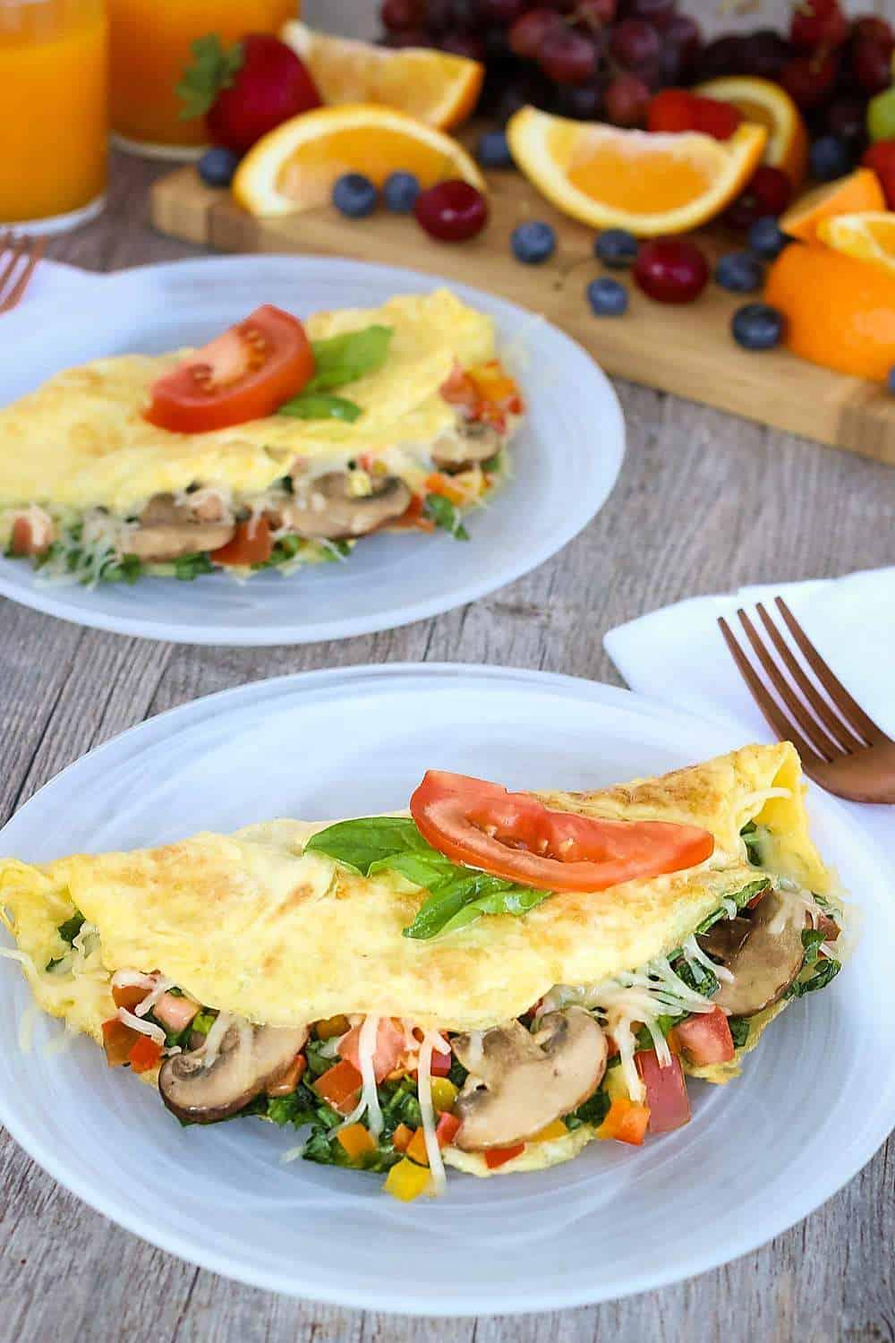omelette: (43, 762, 862, 1191), (0, 300, 562, 598)
